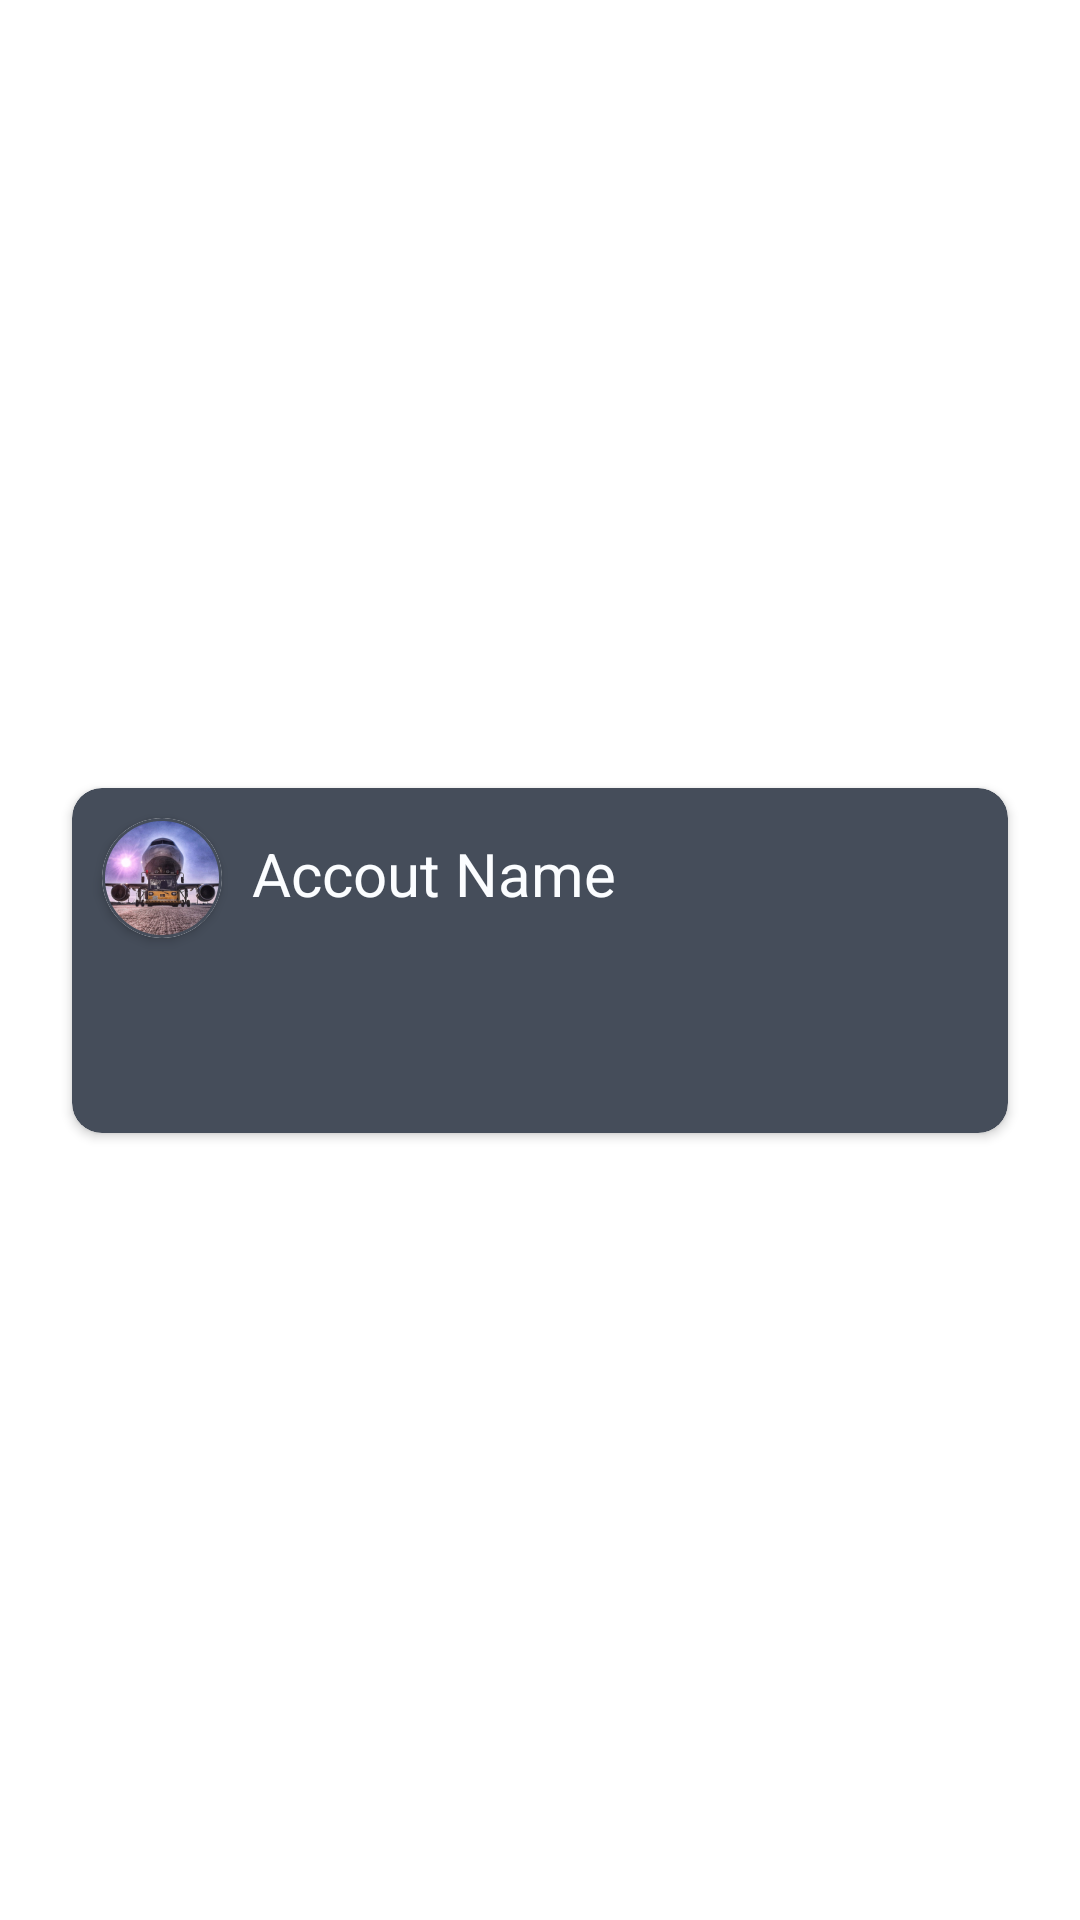

Named icons in this screenshot (1080×1920) and their bounding boxes, (x1, y1, x2, y2):
user images: (102, 818, 222, 938)
